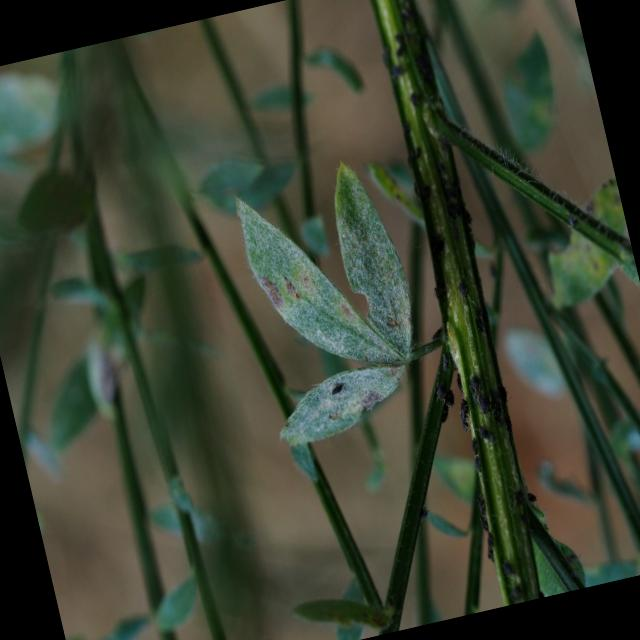powdery_mildew: (237, 199, 402, 363), (335, 163, 412, 359), (281, 364, 405, 445)
